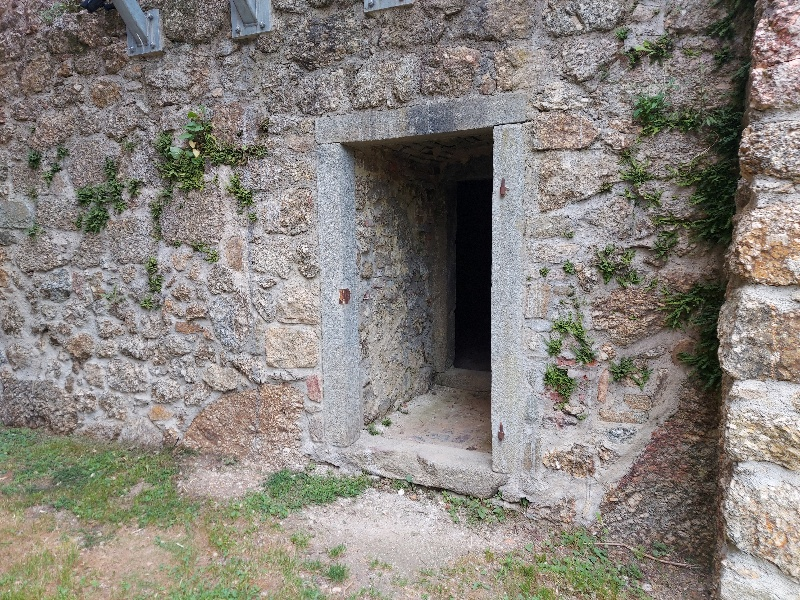door1: (307, 102, 541, 516)
